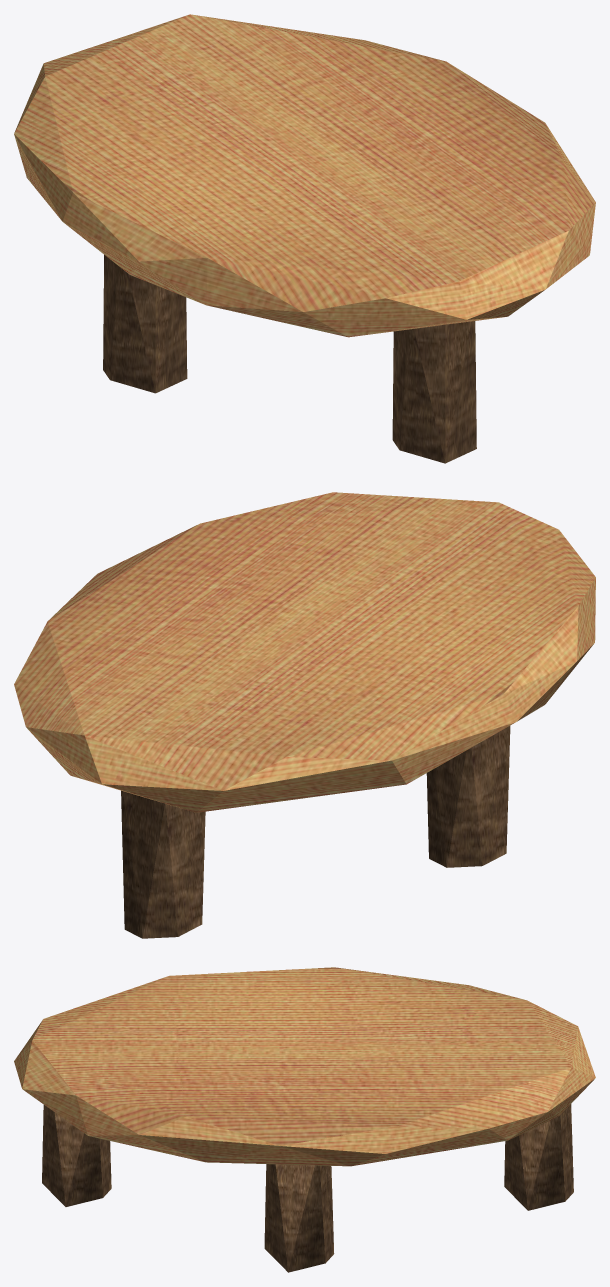
The model's file is COFFE_TABLE_02.fbx.
The picture shows the model from 3 angles, top to bottom: view 1: azimuth 30°, elevation 25°; view 2: azimuth 150°, elevation 25°; view 3: azimuth 270°, elevation 25°; orthographic projection. The views are drawn at different scales.
Parts seen in each view (by area): view 1: COFFE_TABLE_02; view 2: COFFE_TABLE_02; view 3: COFFE_TABLE_02.
Part boxes in pixels (x1,y1,x2,y2): COFFE_TABLE_02: (14, 14, 595, 463); COFFE_TABLE_02: (14, 492, 595, 938); COFFE_TABLE_02: (14, 967, 595, 1272).
Bounding box in the file's own units: 116 × 47.65 × 164.
